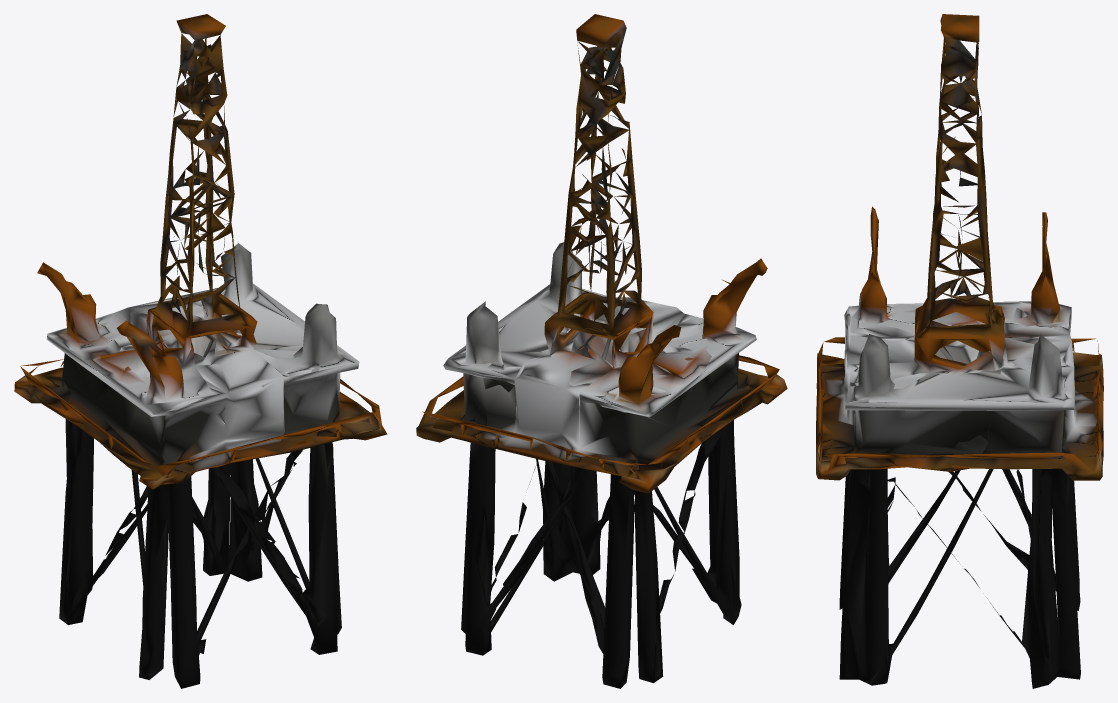
The model's file is gen3d-oil-rig-lod0.glb.
3 views of the same model, side by side, from view 1: azimuth 30°, elevation 25°; view 2: azimuth 150°, elevation 25°; view 3: azimuth 270°, elevation 25° (orthographic). The views are drawn at different scales.
Visible parts, largest first — view 1: part_0; view 2: part_0; view 3: part_0.
Part boxes in pixels (x1,y1,x2,y2): part_0: (14,14,387,688); part_0: (416,14,787,688); part_0: (816,14,1103,688).
Size of the model in its own units: 0.4086 by 0.9745 by 0.4095.
